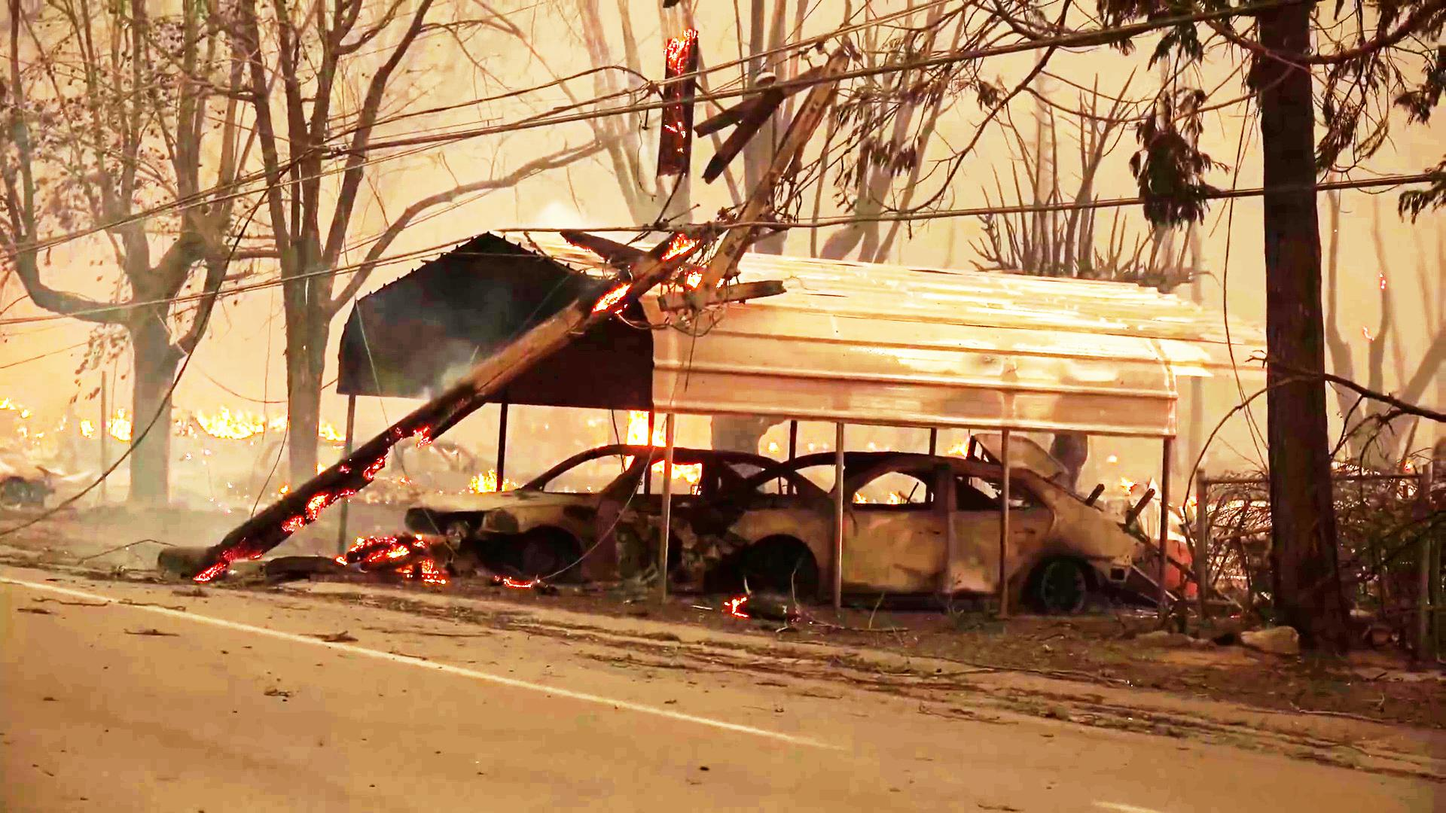fire: (196, 401, 341, 452)
